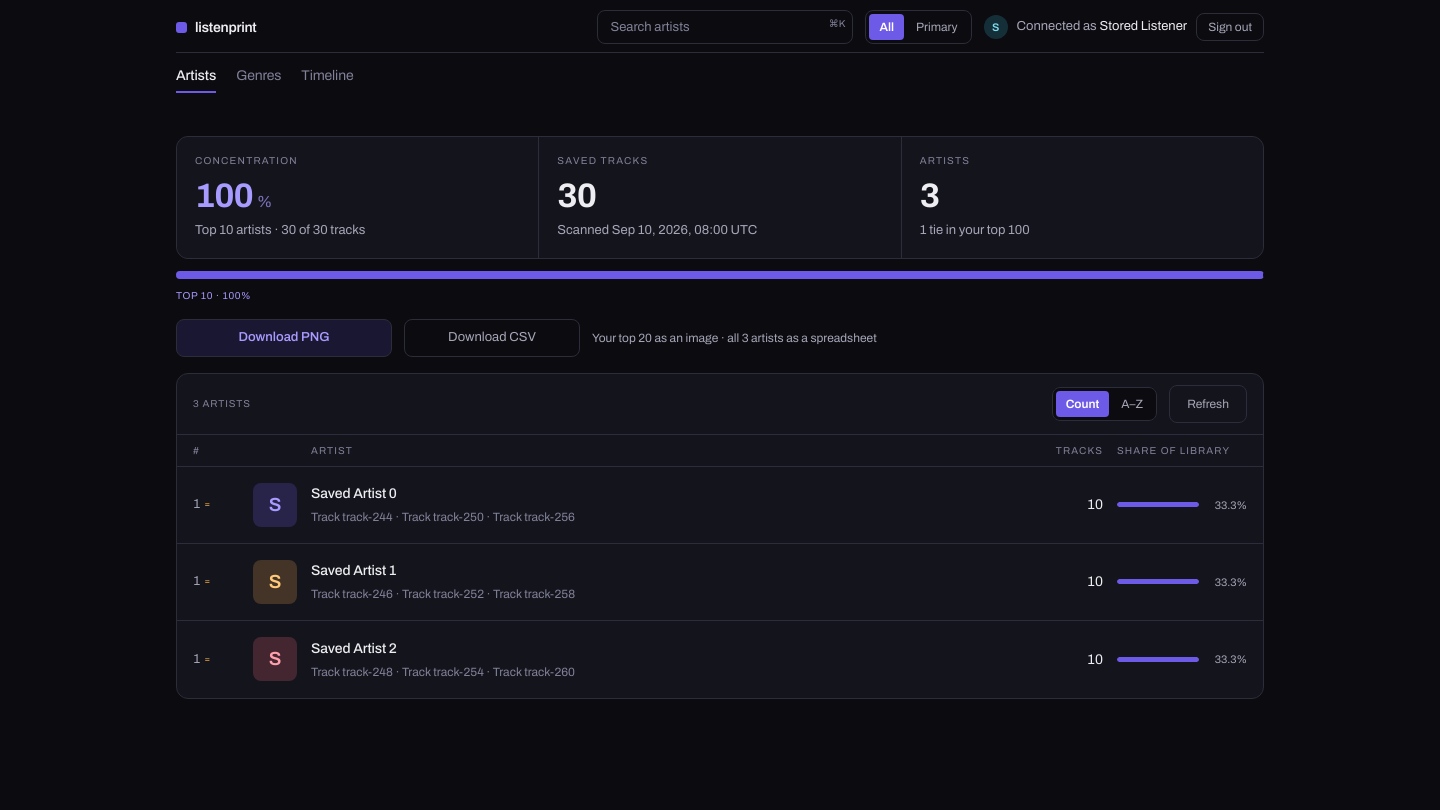
Test case: home page, with a saved library › goes back to the previous ranking when a refresh is cancelled
Click the button "Refresh": (1208, 404) [1169,385,1247,423]
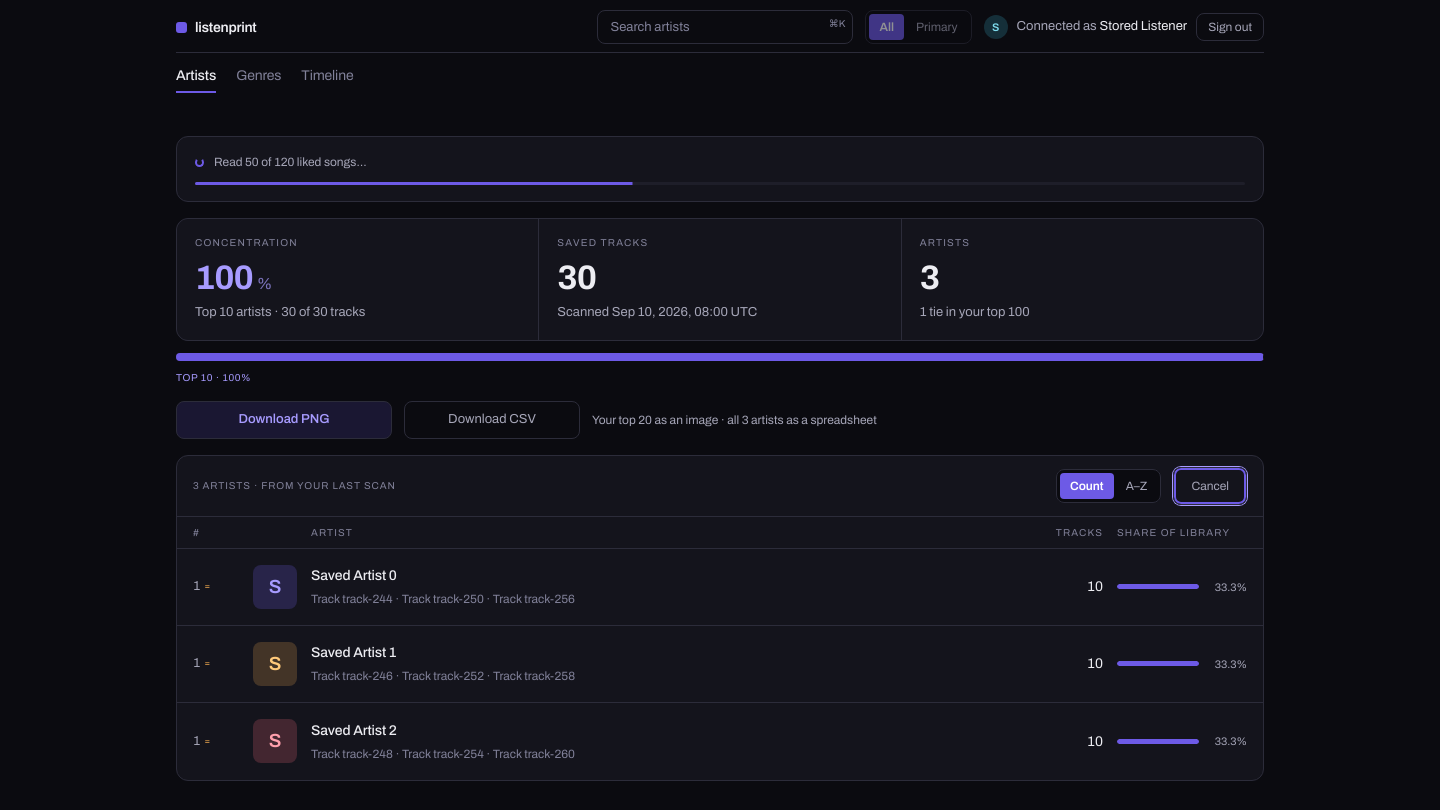
Expected: the text "Read 50 of 120 liked songs…" is shown, [214,153,366,171]
Click the button "Cancel": (1210, 486) [1174,467,1247,505]
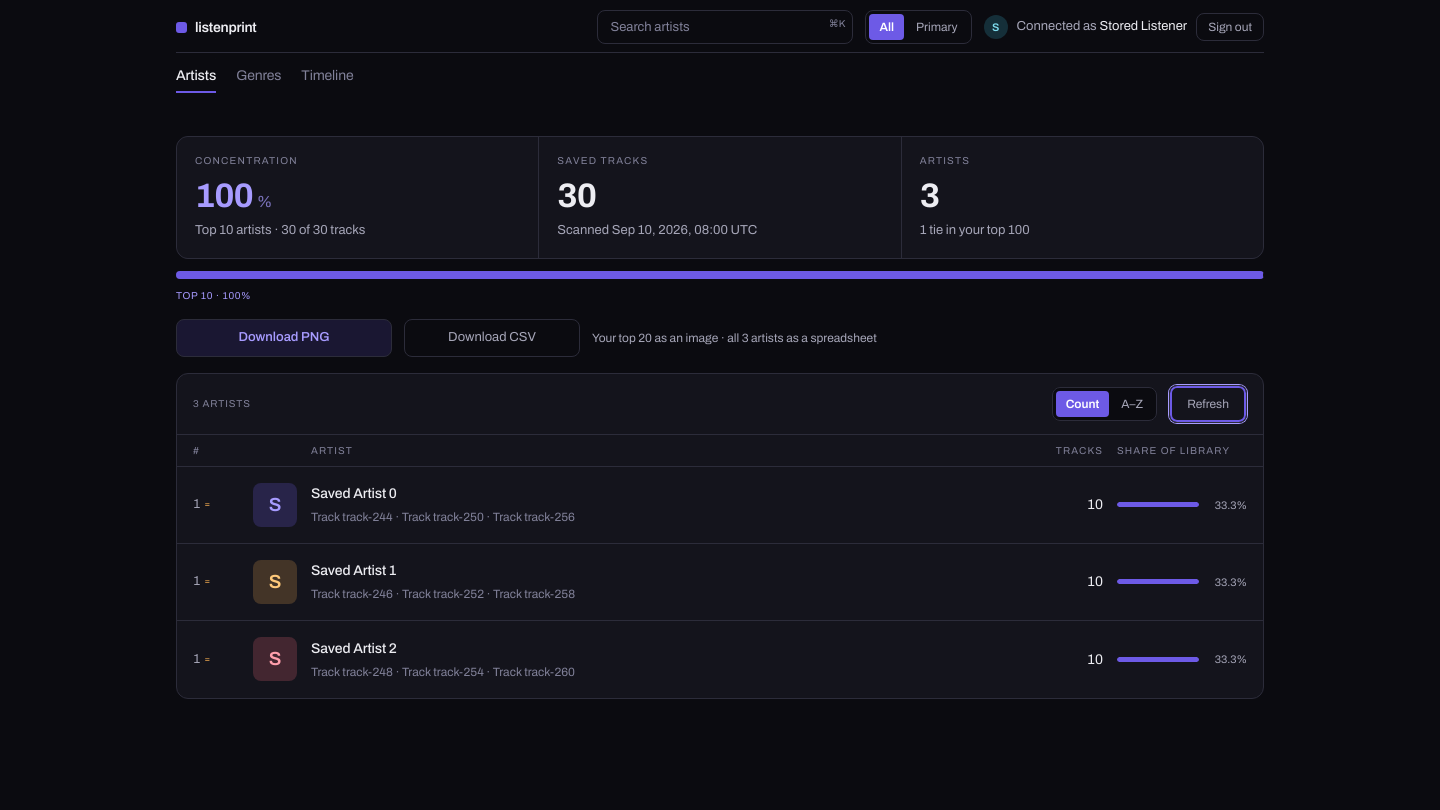
Expected: the heading "3 artists" is shown, [193,396,251,411]
Expected: the button "Refresh" is shown, [1169,385,1247,423]
Expected: the progress indicator is gone
